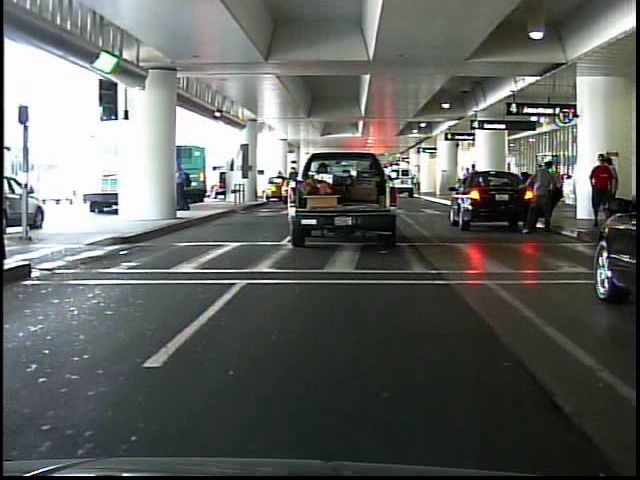person: (519, 147, 559, 241), (591, 152, 616, 205)
